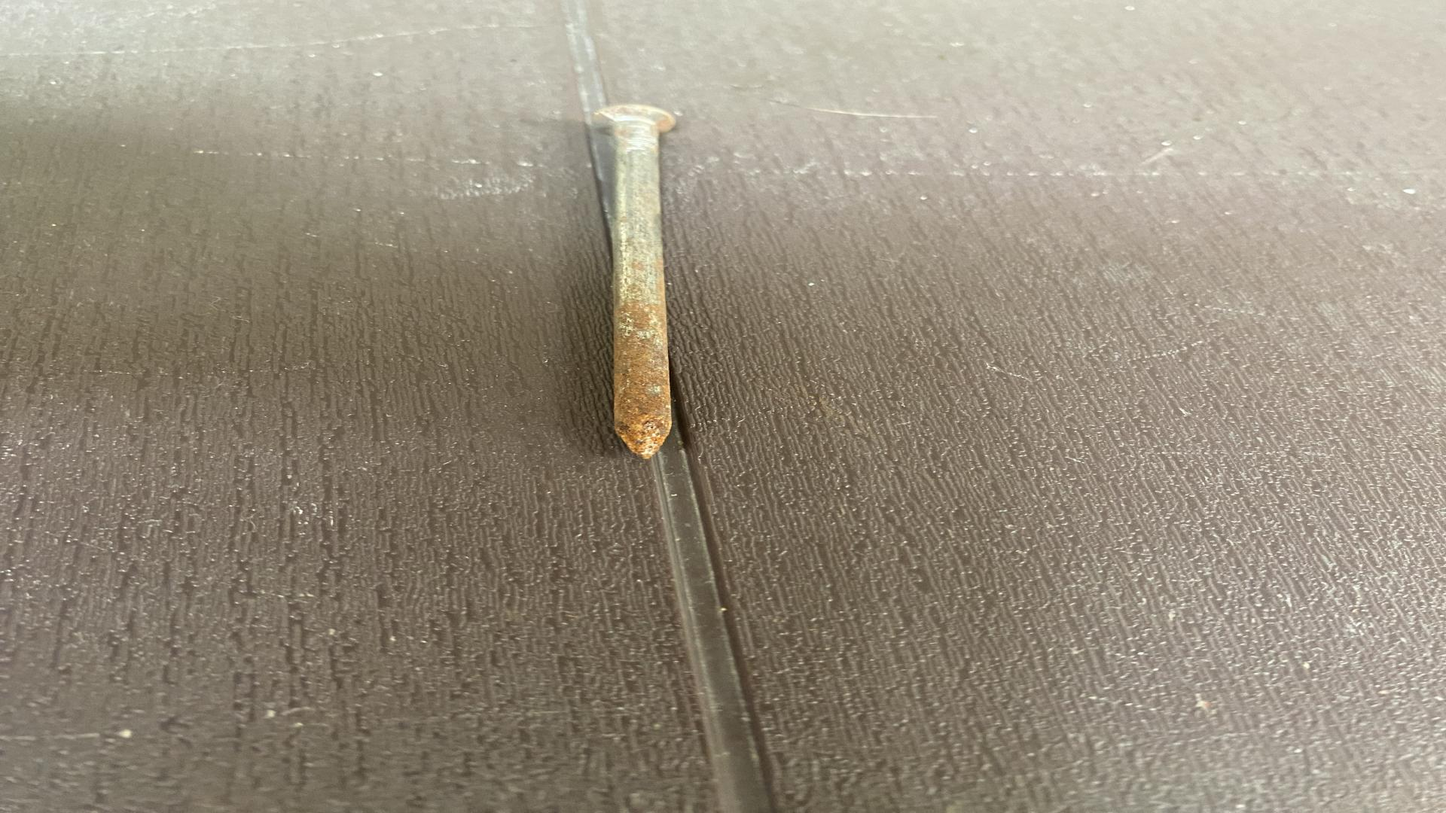nail: (514, 88, 782, 479)
